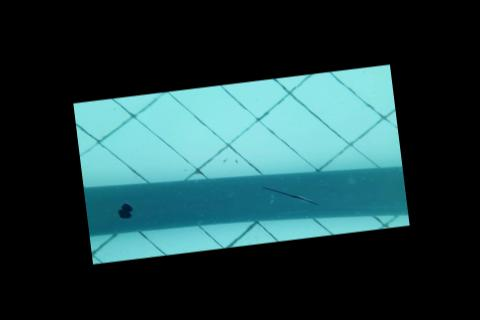kebocoran: (113, 201, 135, 223)
keretakan: (258, 178, 319, 213)
